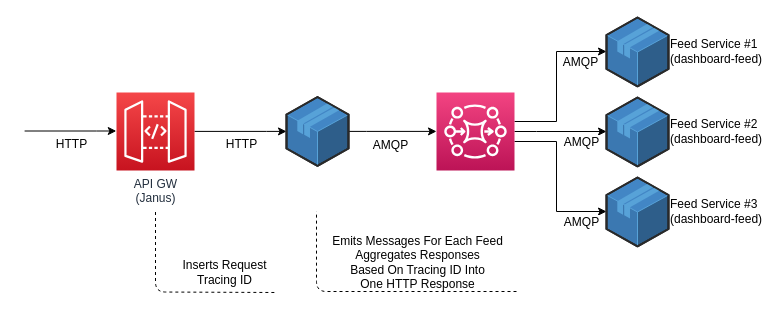
Some shapes in this 780 by 311 pixel diagram are drawn without their labels. The shapes that lost their labels are listed below. From the top down, each one's box as (x1, y1, x2, y2) in pixels, then its label:
(286, 96, 348, 166): API Service (dashboard-api)
(436, 92, 514, 170): Message Queue (rabbitMq)
